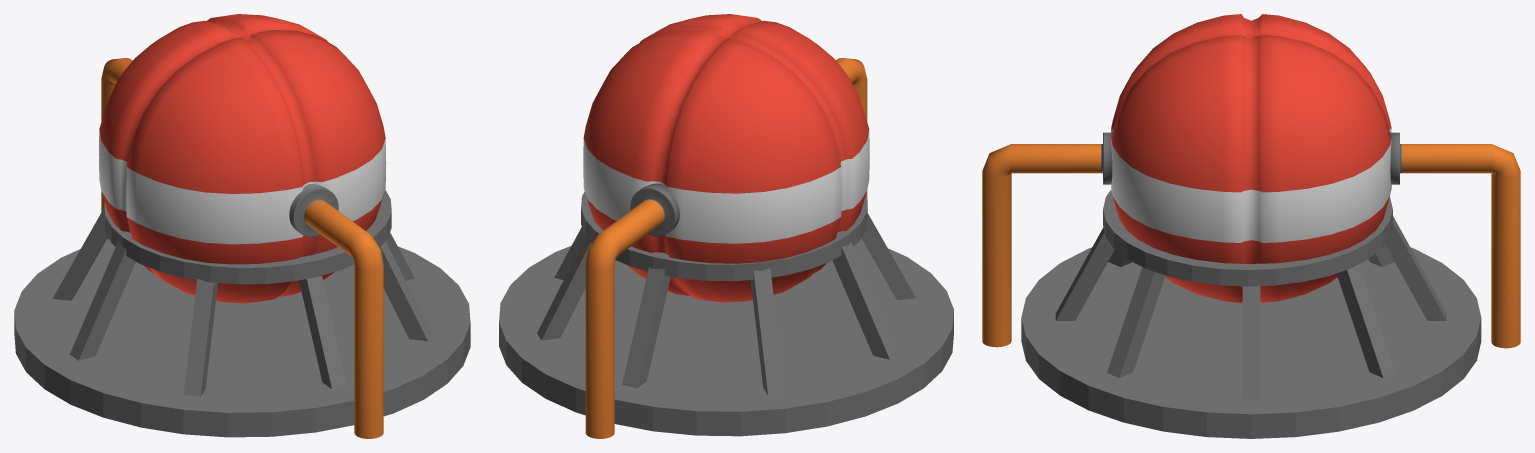
Rendered from tank 1.fbx.
The picture shows the model from 3 angles, left to right: view 1: azimuth 30°, elevation 25°; view 2: azimuth 150°, elevation 25°; view 3: azimuth 270°, elevation 25°; orthographic projection.
Parts seen in each view (by area): view 1: Cube.003, Cube, Cylinder.002; view 2: Cube.003, Cube, Cylinder.002; view 3: Cube.003, Cube, Cylinder.002.
Part boxes in pixels (x1,y1,x2,y2): Cube.003: (14, 190, 470, 437); Cube: (98, 14, 386, 303); Cylinder.002: (101, 58, 383, 438); Cube.003: (499, 191, 953, 436); Cube: (583, 14, 869, 302); Cylinder.002: (585, 58, 867, 438); Cube.003: (1021, 190, 1481, 438); Cube: (1111, 14, 1391, 302); Cylinder.002: (982, 132, 1520, 348).
Size of the model in its own units: 269 by 201 by 315.
